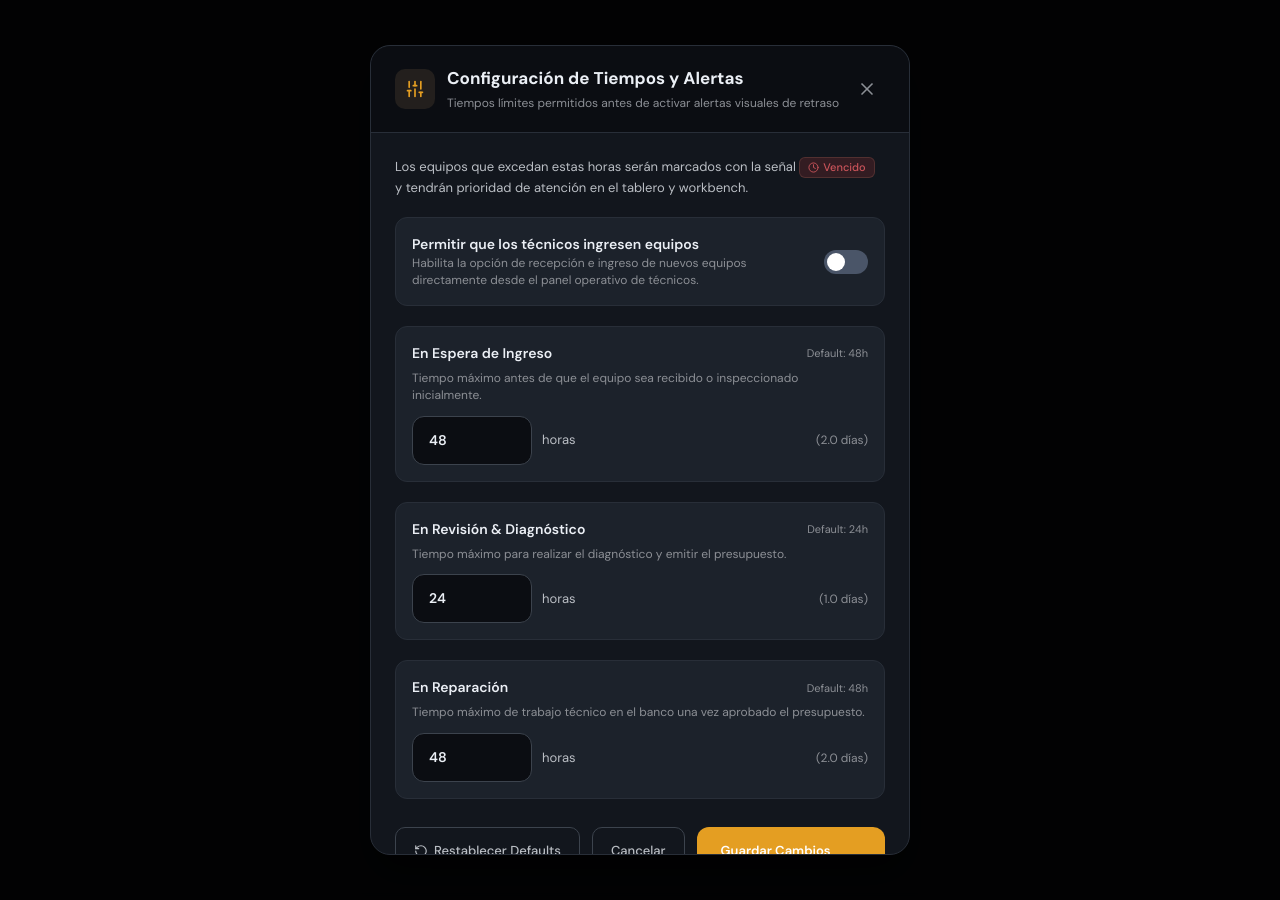
Scenario: SlaSettingsModal Component › resets input fields to defaults when clicking "Restablecer Defaults"
Replace the text in the number field named "Horas SLA para En Revisión & Diagnóstico" with "6": (472, 599) 412,574 -> 532,623
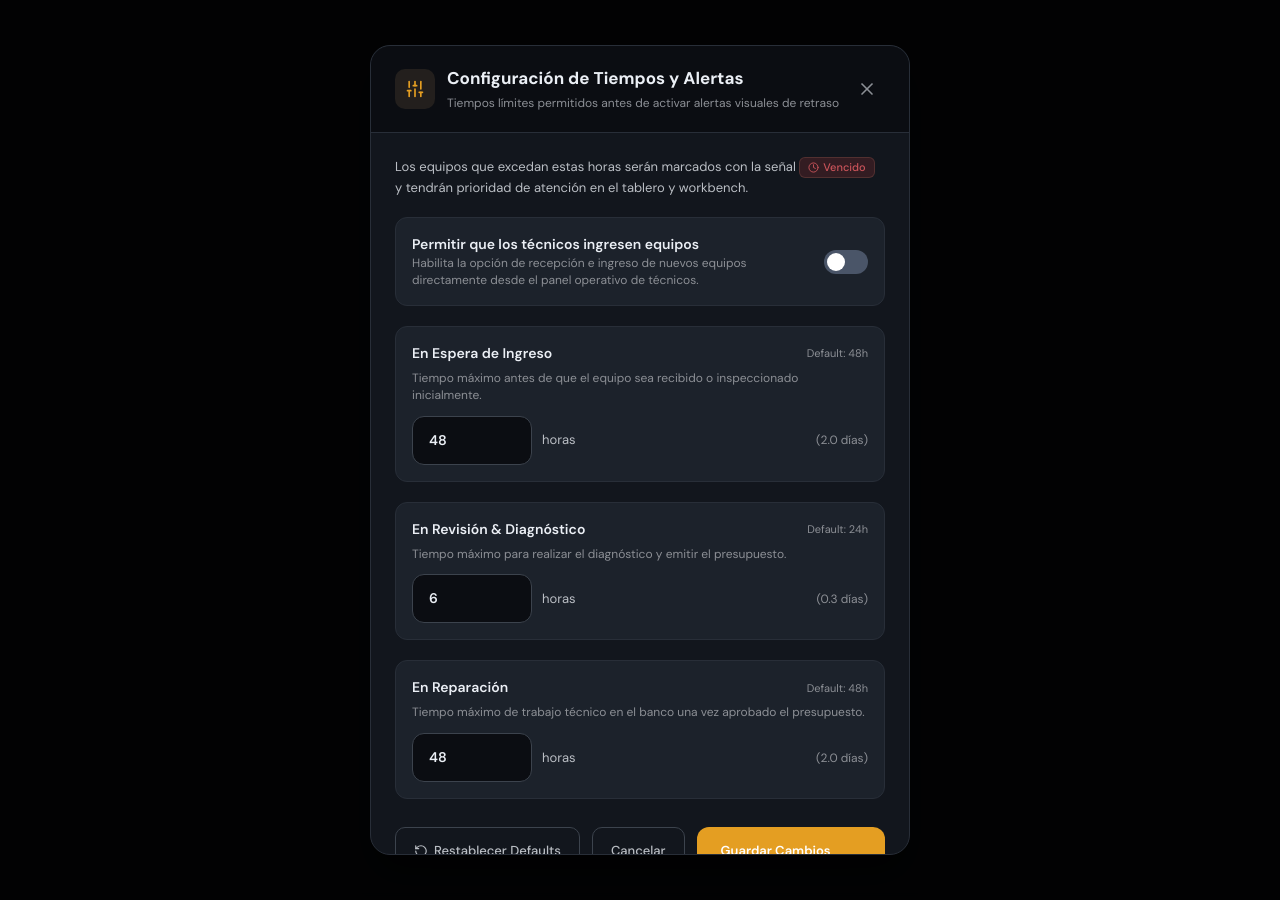
Replace the text in the number field named "Horas SLA para En Reparación" with "72": (472, 758) 412,733 -> 532,782
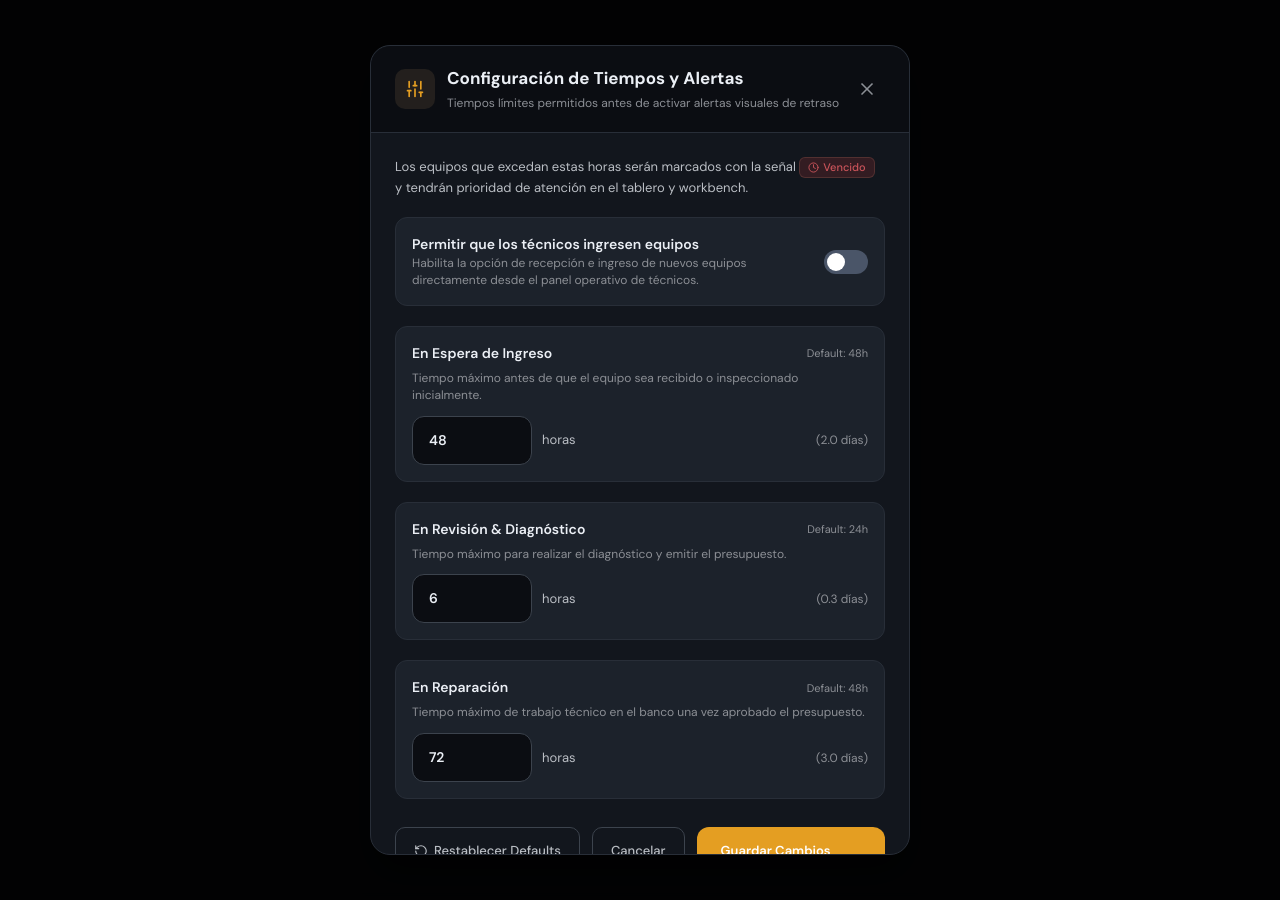
Click the button "Restablecer Defaults": (487, 851) 395,827 -> 580,875
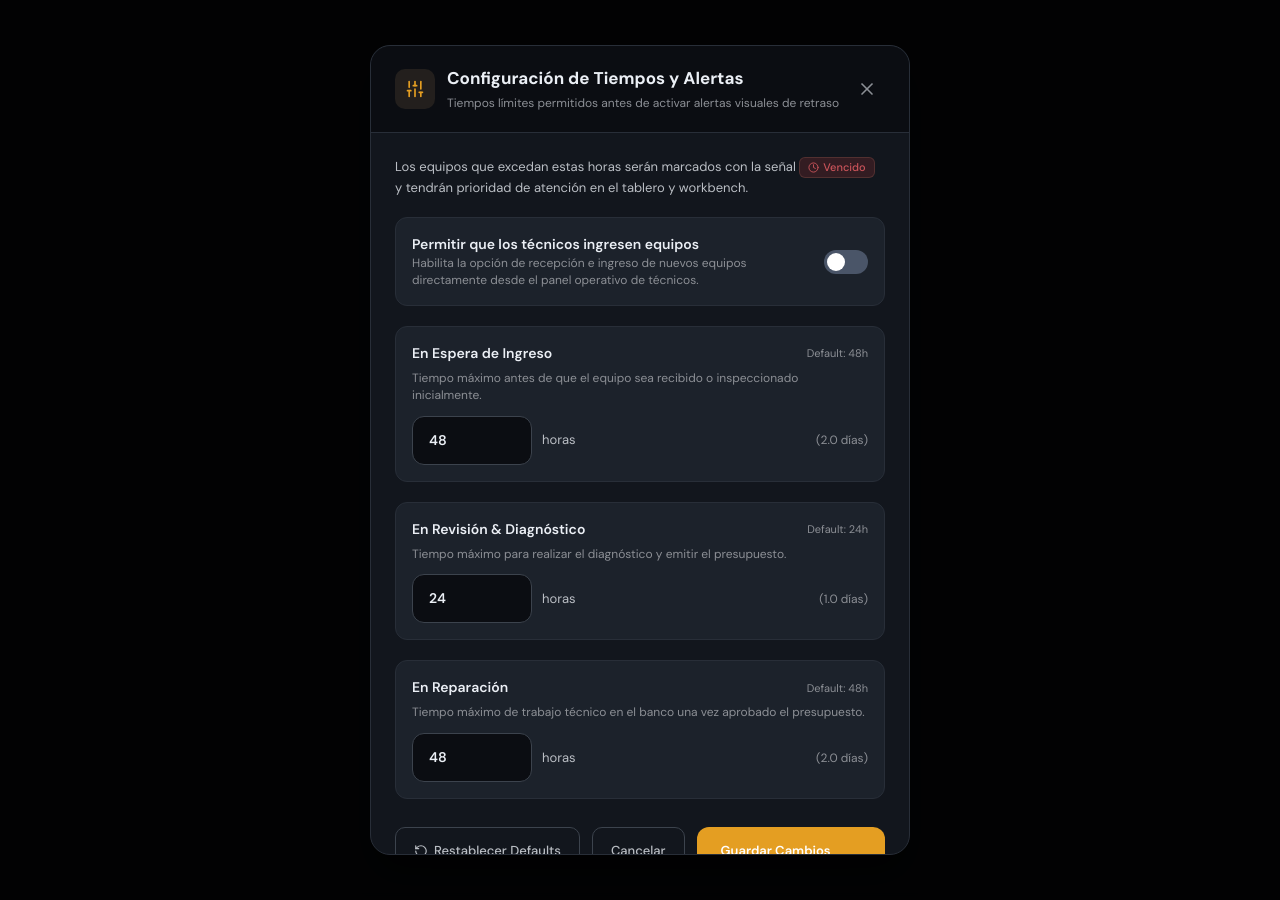
Now the number field named "Horas SLA para En Revisión & Diagnóstico" holds "24", box 412,574 -> 532,623
Now the number field named "Horas SLA para En Reparación" holds "48", box 412,733 -> 532,782
